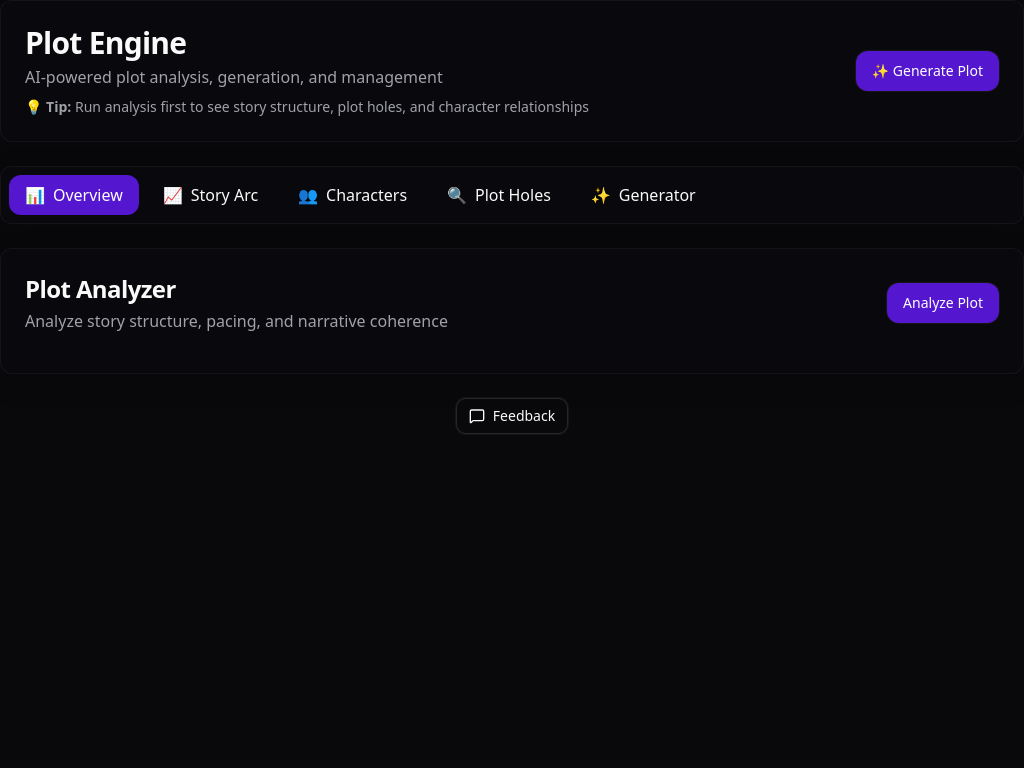
Test case: PlotEngineDashboard › should show generator tab content
Click the button with test id "tab-generator".
click(643, 195)  # box [575,175,712,215]
(page scrolled)
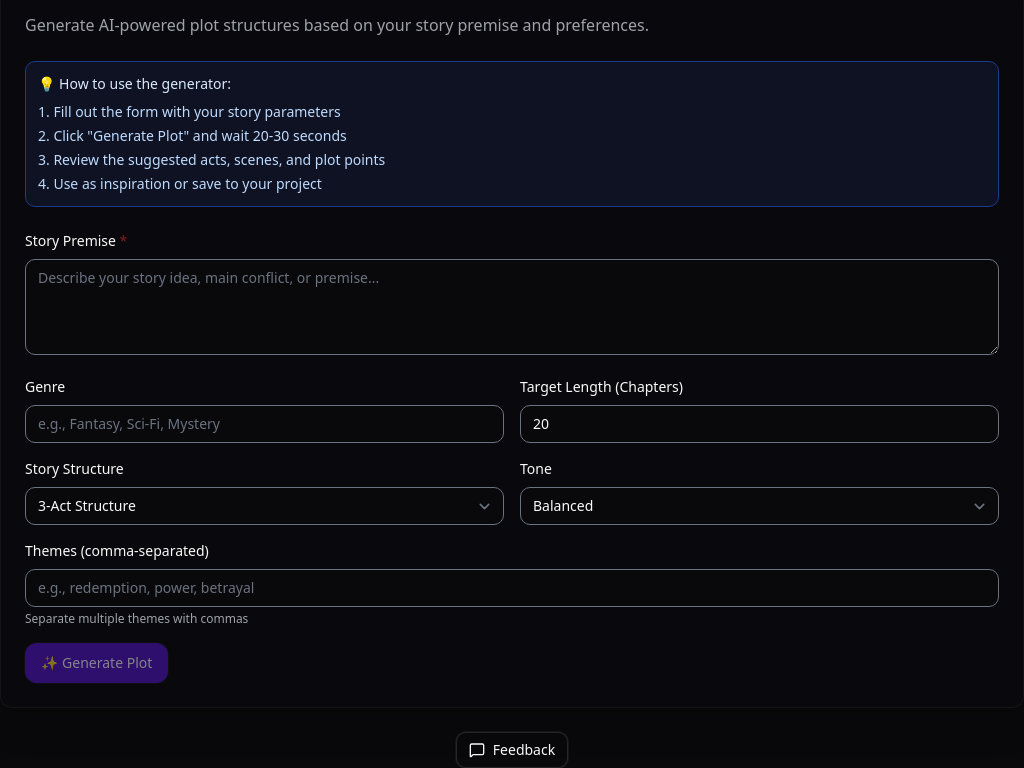
Expected: the button with test id "generate-button" is shown, [25,643,168,683]
